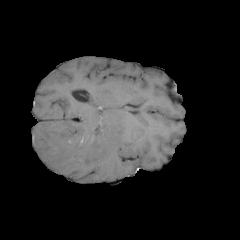glioma: (38, 103, 133, 172)
